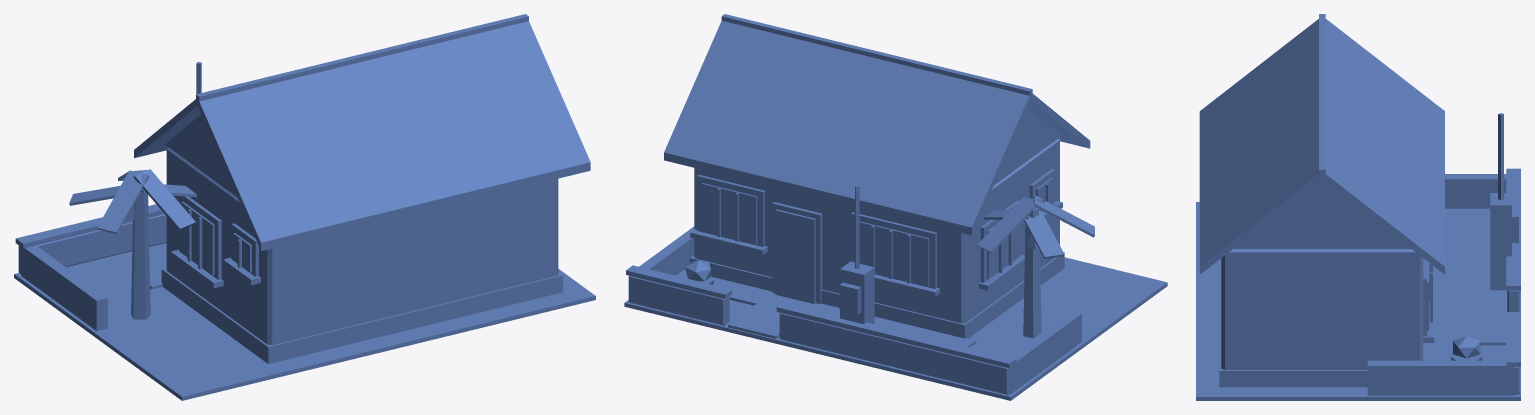
3 renders of one model, left to right at view 1: azimuth 30°, elevation 25°; view 2: azimuth 150°, elevation 25°; view 3: azimuth 270°, elevation 25°, orthographic. The views are drawn at different scales.
Visible parts, largest first — view 1: corpo; view 2: corpo; view 3: corpo.
Boxes of the visible parts, x1,y1,x2,y2 form: corpo: (14,14,595,400); corpo: (624,14,1167,400); corpo: (1196,14,1520,400).
Size of the model in its own units: 1.29 by 0.703 by 0.9.
